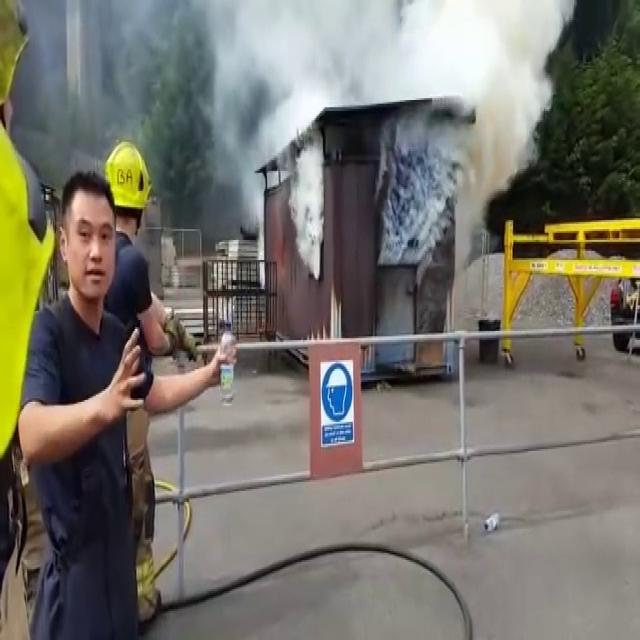Smoke: (254, 0, 549, 104), (435, 114, 547, 225), (271, 120, 337, 268)
